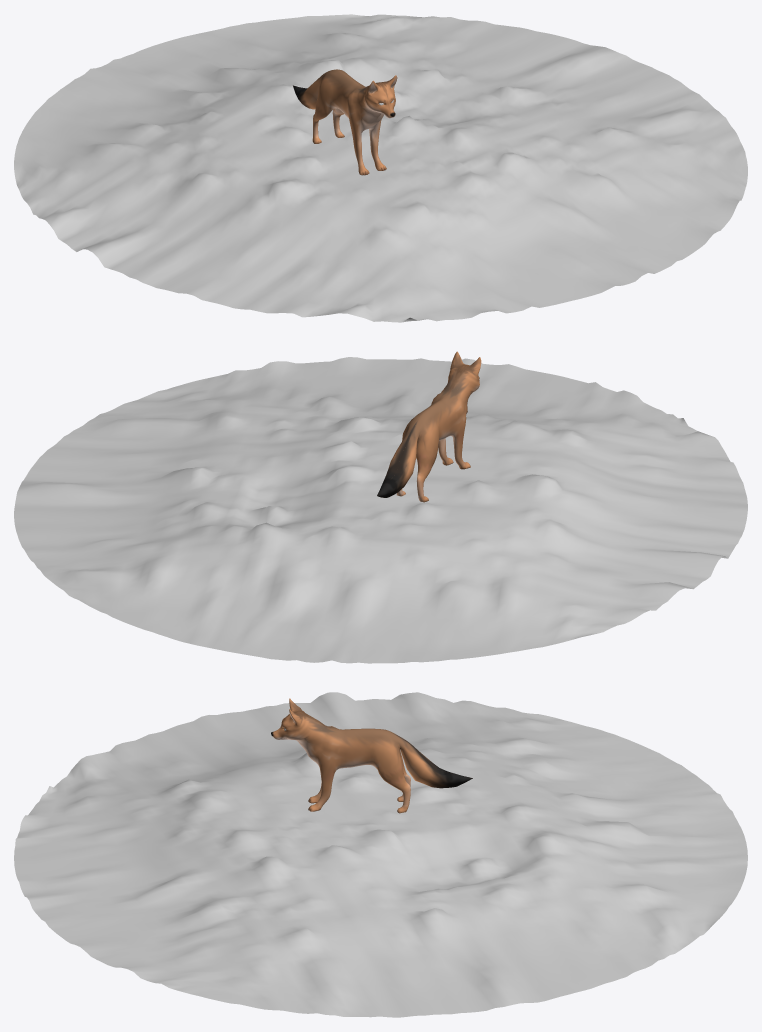
The model's file is Fox.fbx.
The picture shows the model from 3 angles, top to bottom: view 1: azimuth 30°, elevation 25°; view 2: azimuth 150°, elevation 25°; view 3: azimuth 270°, elevation 25°; orthographic projection.
Parts seen in each view (by area): view 1: floor, Fox; view 2: floor, Fox; view 3: floor, Fox.
Part boxes in pixels (x1=…): floor: x1=14, y1=14, x2=747, y2=322; Fox: x1=293, y1=69, x2=397, y2=175; floor: x1=14, y1=357, x2=747, y2=663; Fox: x1=377, y1=351, x2=481, y2=502; floor: x1=14, y1=692, x2=747, y2=1017; Fox: x1=271, y1=698, x2=472, y2=813.
Size of the model in its own units: 3988 by 832 by 3989.
